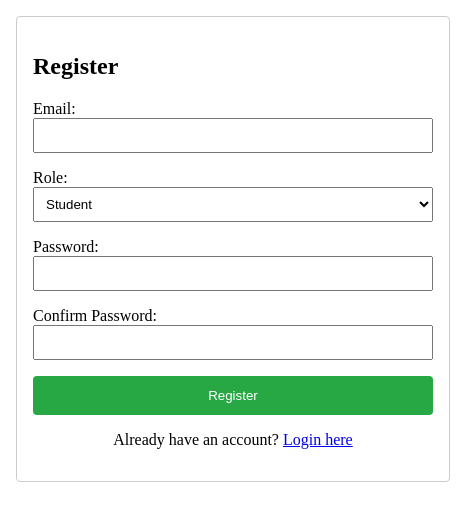
Register Page › shows error when passwords do not match
Type "user@example.com" into the field labelled "Email:" at [233, 135], box [33,118,433,153]
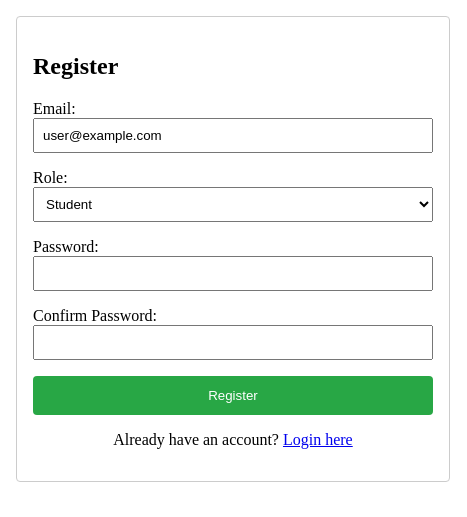
Type "password123" into the password field labelled "Password:" at [233, 273], box [33,256,433,291]
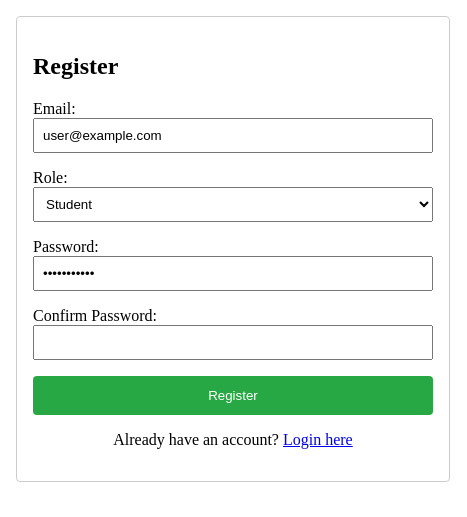
Type "password999" into the password field labelled "Confirm Password:" at [233, 342], box [33,325,433,360]
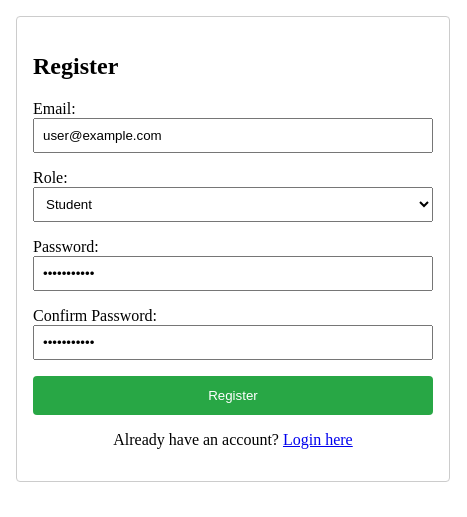
Click the button "Register" at [233, 395], box [33,376,433,415]
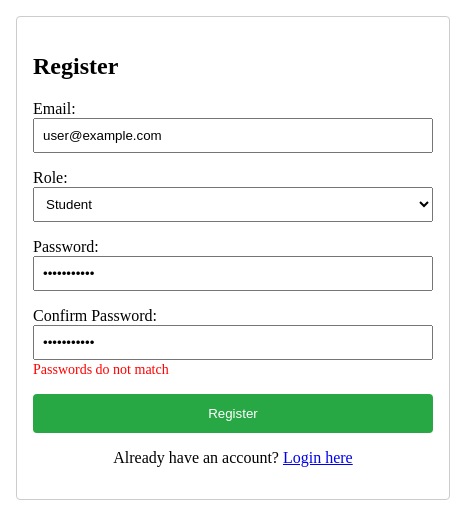
Expected: the text "Passwords do not match" is shown, [33,362,169,377]
